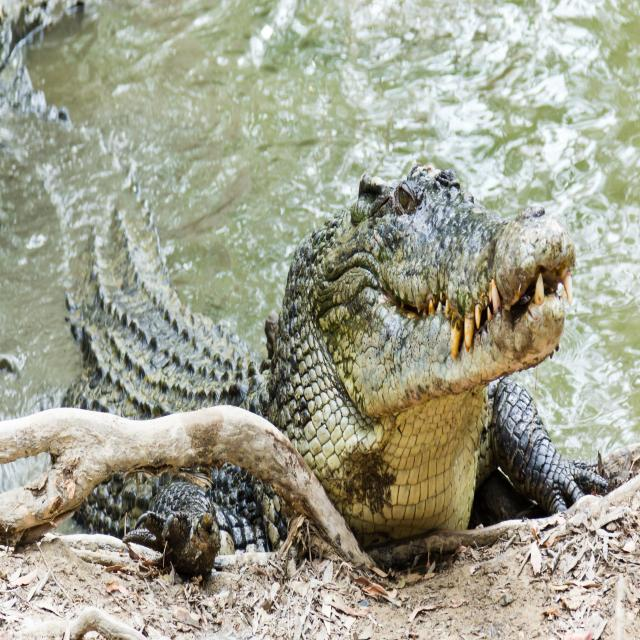crocodile: (0, 39, 631, 592)
